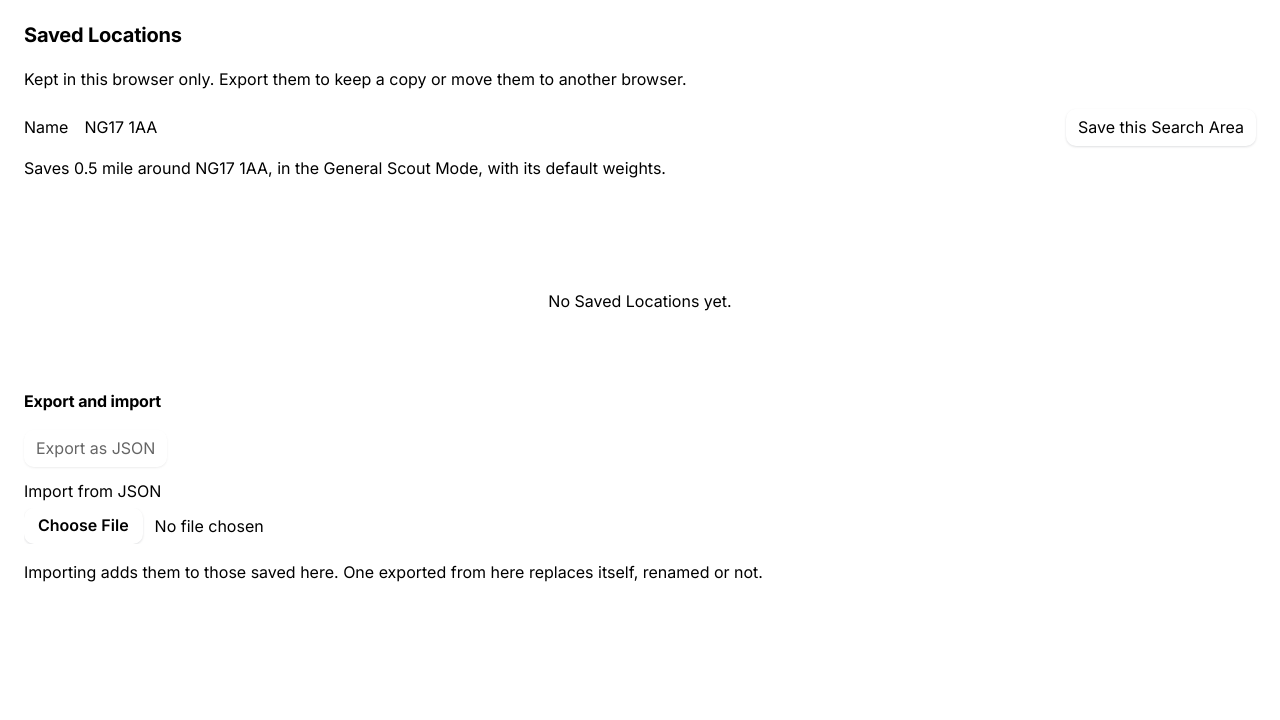
SavedLocationsPanel › follows Saved Locations changed in another tab
Step 1. Type "Home" into the field labelled "Name" → (567,128), box top-left (76, 108), bottom-right (1058, 148)
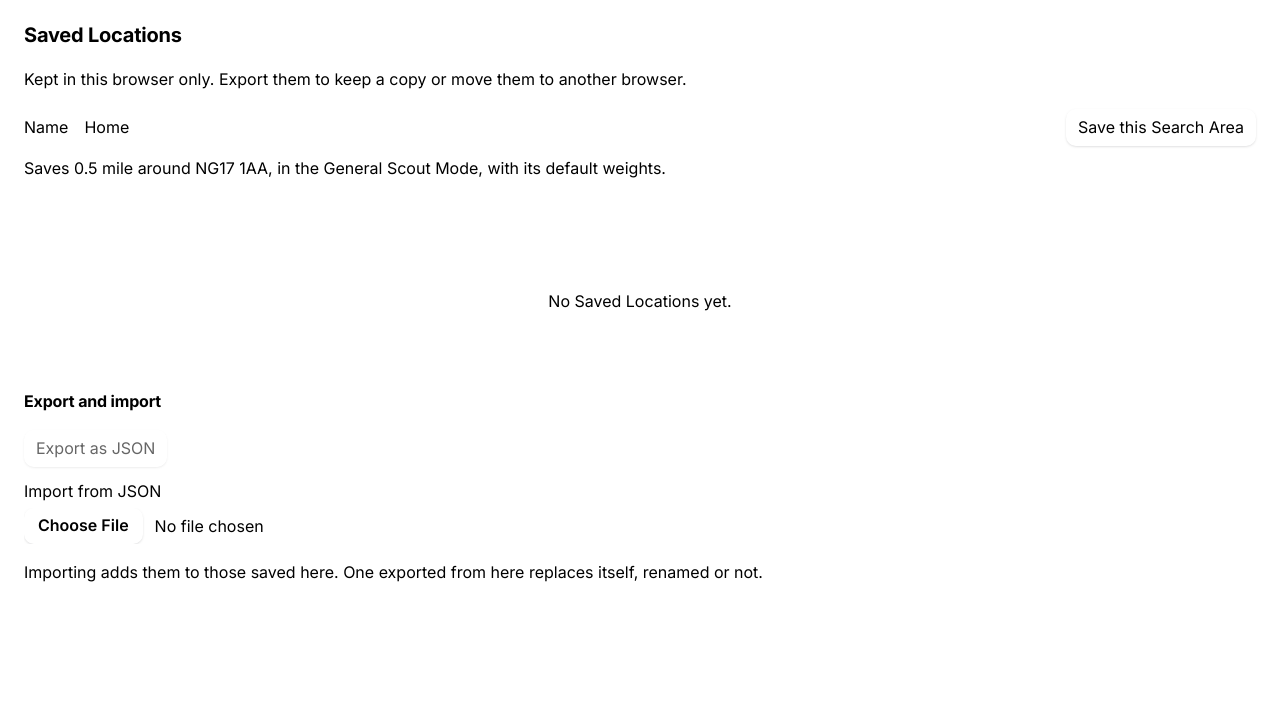
Step 2. Click the button "Save this Search Area" → (1161,128), box top-left (1066, 109), bottom-right (1256, 146)
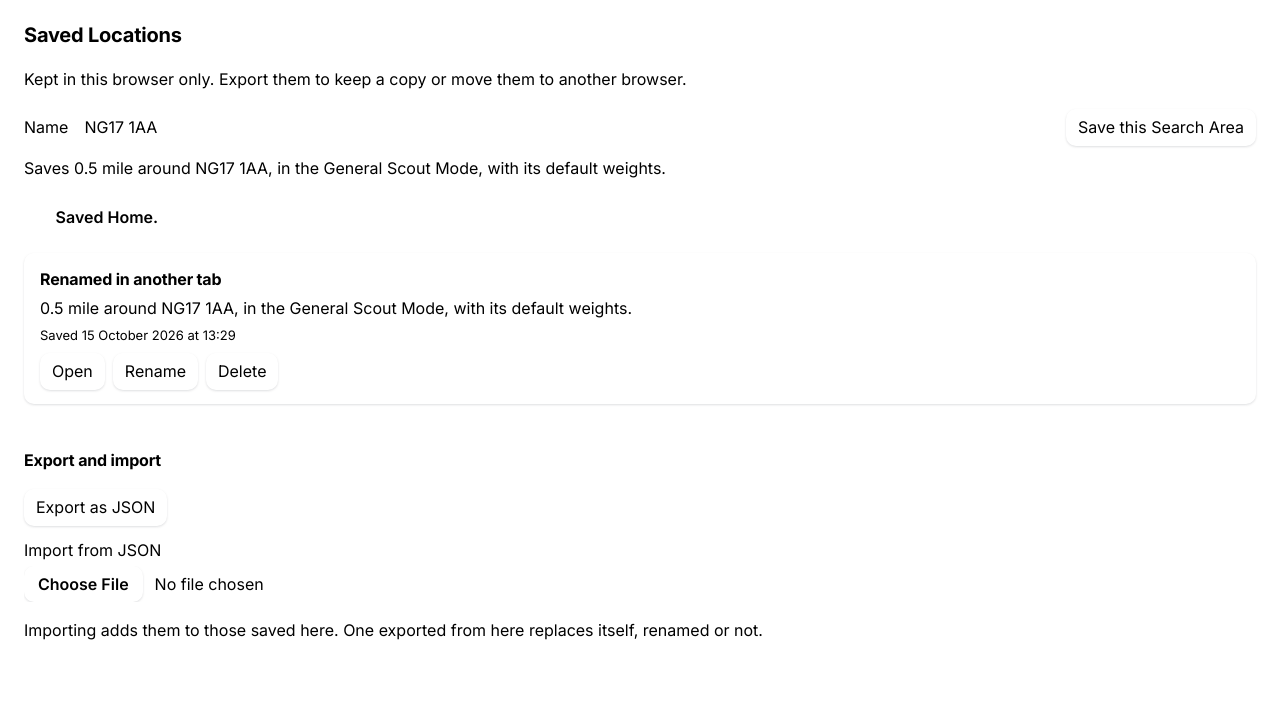
Expected: the heading "Renamed in another tab" is shown, top-left (40, 269), bottom-right (221, 289)
